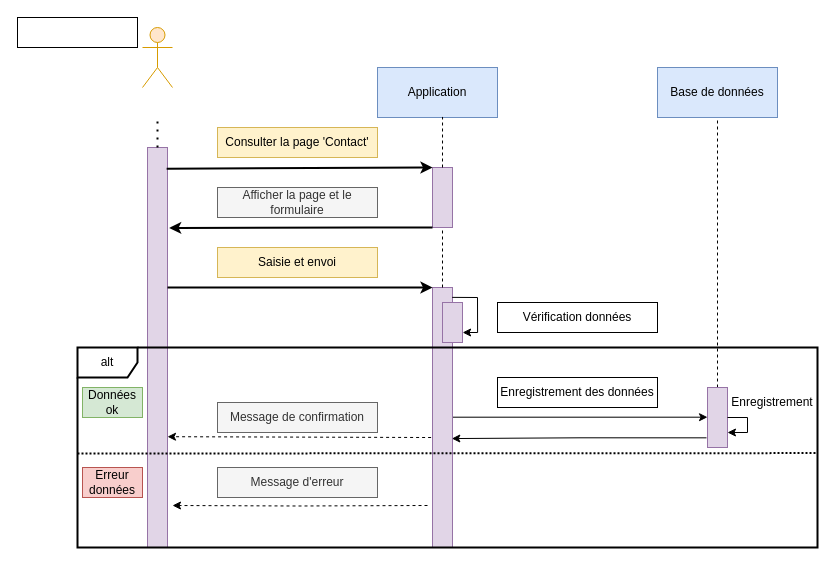
Image size: 836x566. Some labels were removed from this diagram. The shapes that lost their labels are listed below. From the top down, each one's centre as x and y in pixels, then its label:
the point at 77,32: Déposer une démande de contact
the point at 157,57: Visiteur
